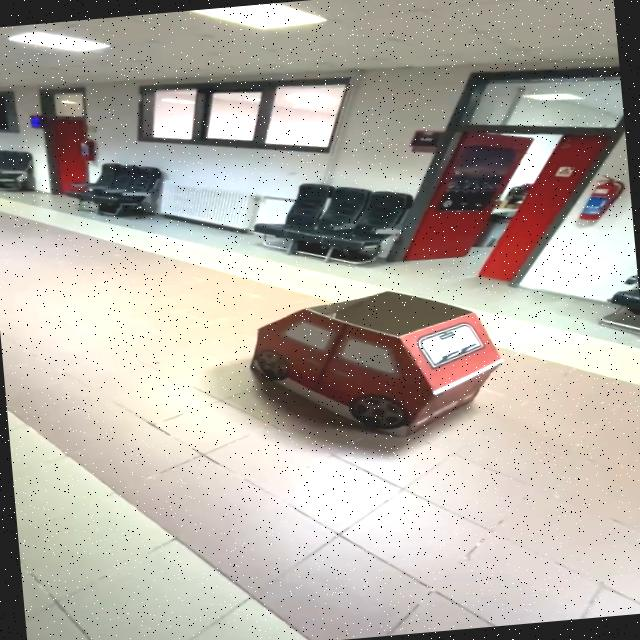red_car: (233, 260, 531, 470)
